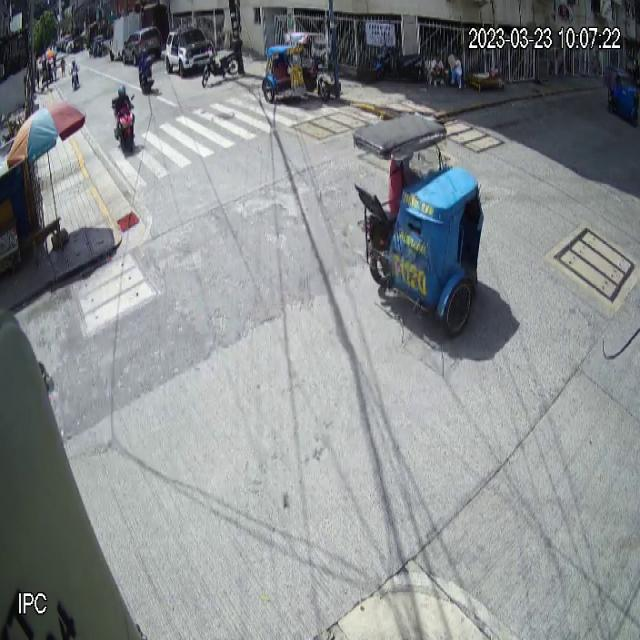Motorcycle: (111, 92, 136, 154)
Tricycle: (352, 114, 484, 337), (260, 32, 332, 105)
